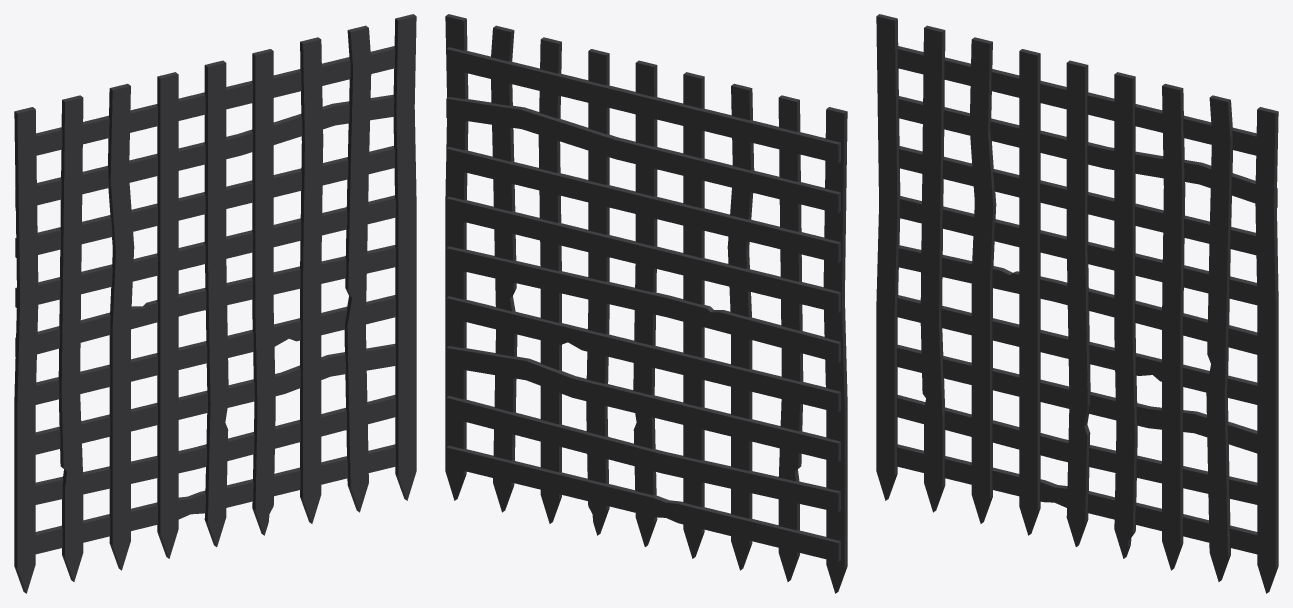
File: SM_Bld_Castle_Iron_Gate_01.gltf
3 views of the same model, side by side, from view 1: azimuth 30°, elevation 25°; view 2: azimuth 150°, elevation 25°; view 3: azimuth 330°, elevation 25° (orthographic).
Visible parts, largest first — view 1: SM_Bld_Castle_Iron_Gate_01; view 2: SM_Bld_Castle_Iron_Gate_01; view 3: SM_Bld_Castle_Iron_Gate_01.
Part boxes in pixels (bbox=[...]): SM_Bld_Castle_Iron_Gate_01: bbox=[14, 14, 416, 593]; SM_Bld_Castle_Iron_Gate_01: bbox=[445, 14, 847, 593]; SM_Bld_Castle_Iron_Gate_01: bbox=[876, 14, 1278, 593].
Bounding box in the file's own units: 2.52 × 2.91 × 0.0626.
Materials: 1 (1 with a texture image).
